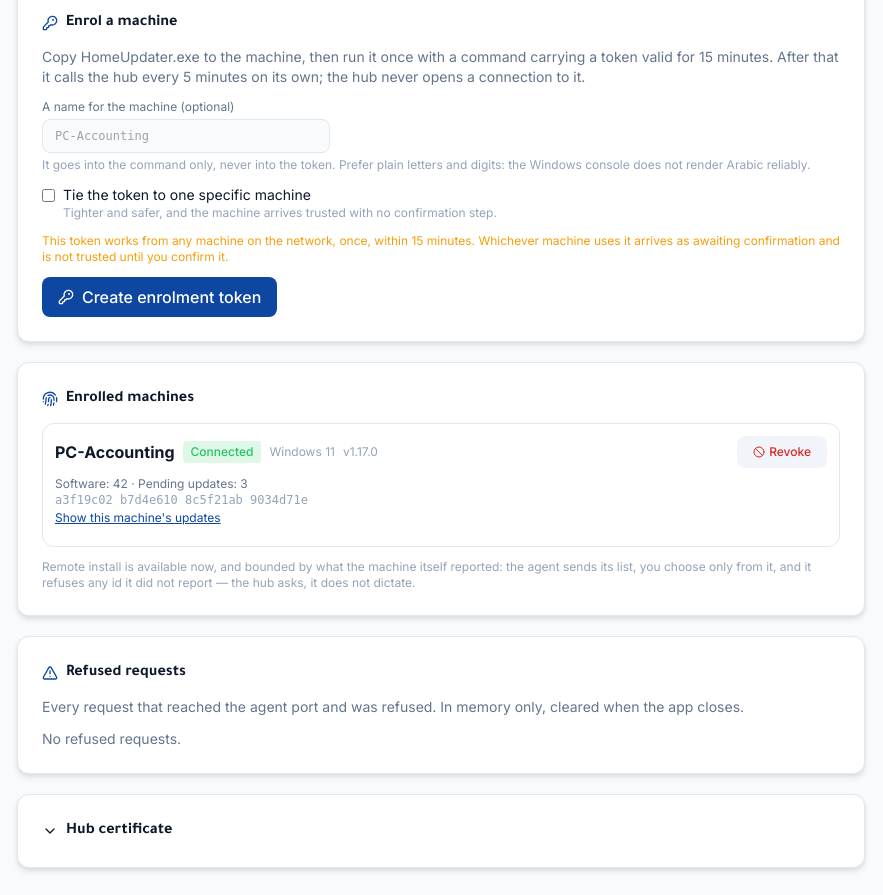
Test case: the irreversible actions › says how to undo a revocation, because the code makes it permanent otherwise
(page scrolled)
Click the button "Revoke": (782, 452) [737,436,827,468]
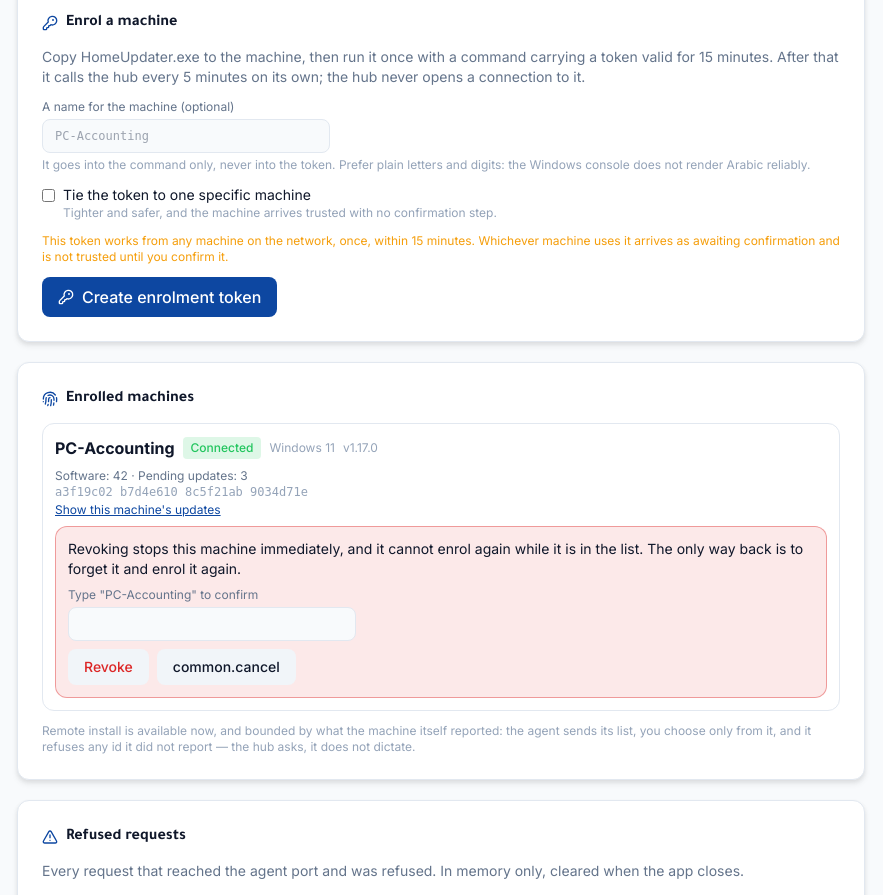
Now the text "forget it and enrol it again" is shown, box [68,540,803,577]
